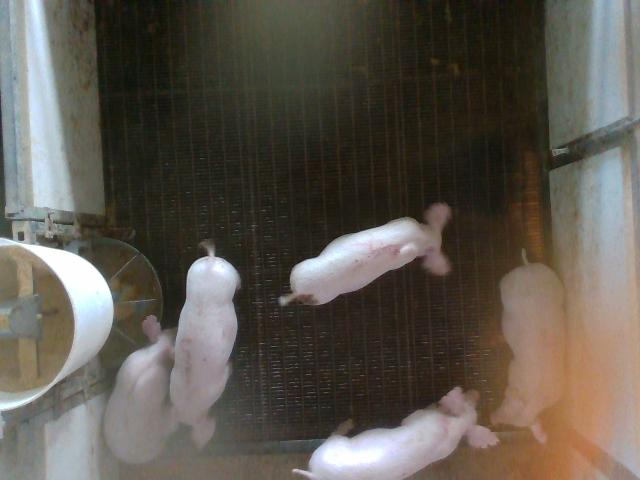pig-3: (162, 241, 240, 448)
pig-4: (491, 255, 564, 426)
pig-5: (279, 202, 451, 305)
